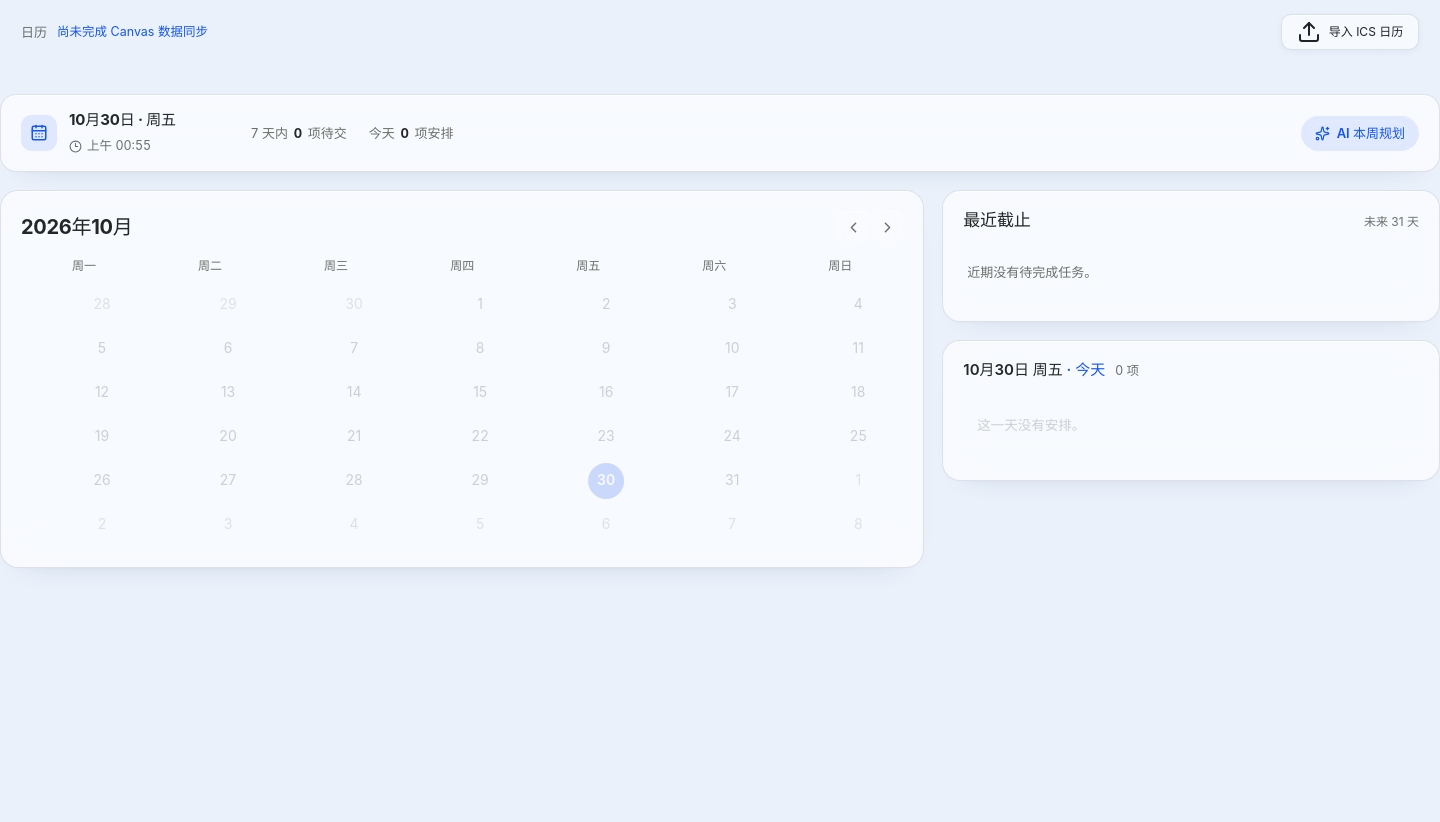
ScheduleView › shows ICS import errors without opening the legacy dialog
Click the button "导入 ICS 日历": (1350, 32) [1281, 14, 1419, 50]
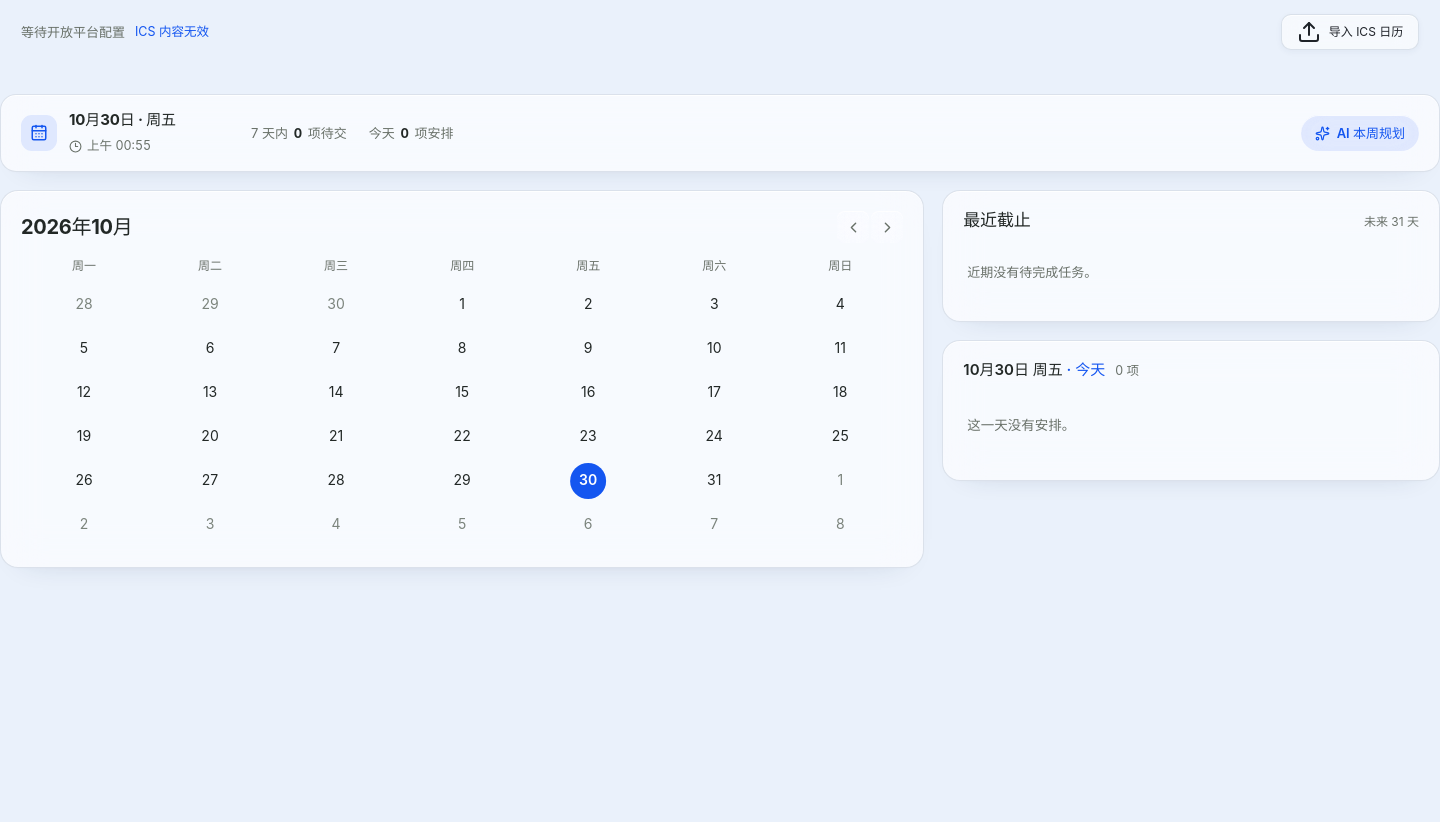
Expected: the text "ICS 内容无效" is shown, [135, 24, 209, 39]
